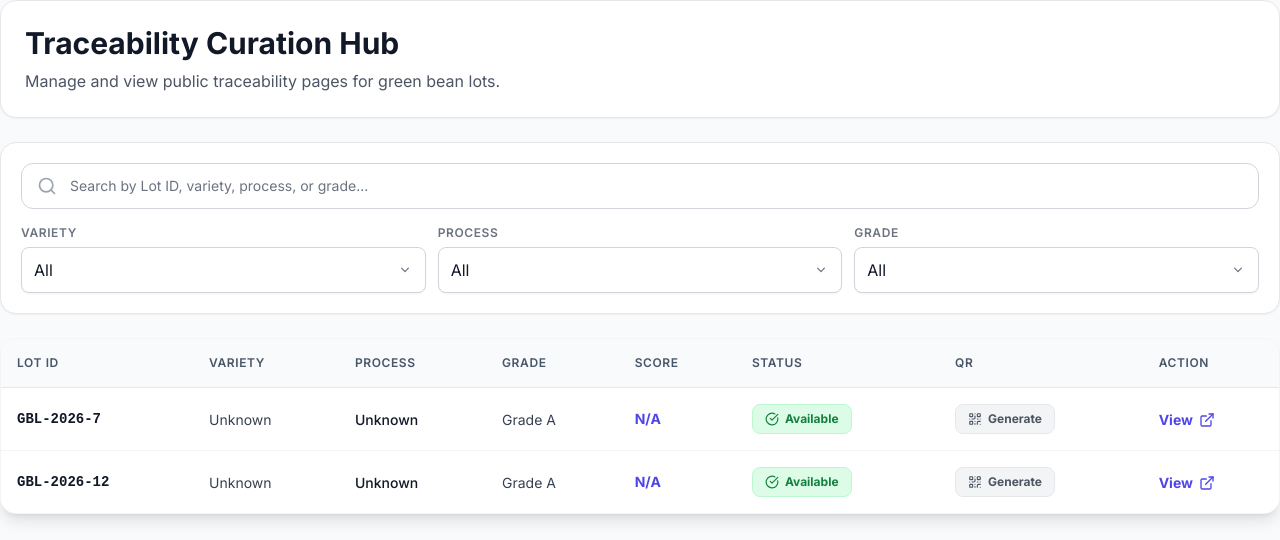
it: Traceability Hub lot ids › finds a lot by its lot number
The image size is (1280, 540).
Type "gbl-2026-7" into the field with placeholder "Search by Lot ID, variety, process, or grade...". click: (640, 186)
box: 21,163 -> 1259,209
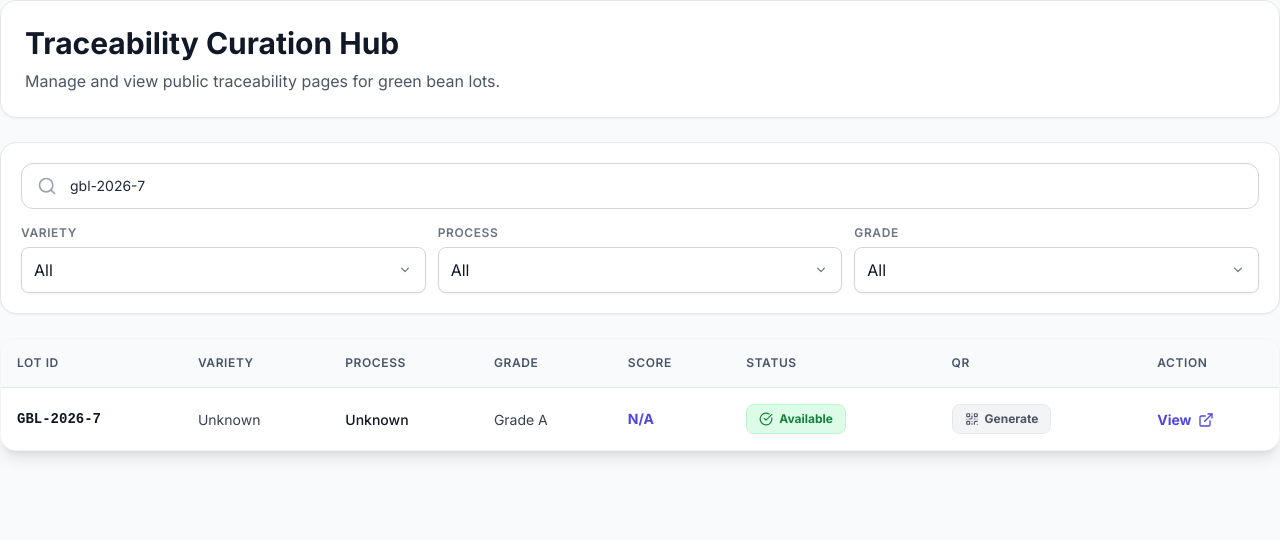
Expected: the text titled "77777777-0000-4000-8000-000000000007" is shown, 17,409 -> 101,429
Now the text titled "12121212-0000-4000-8000-000000000012" is gone
